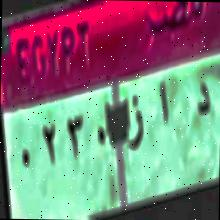0: (21, 144, 30, 174), (96, 124, 107, 148)
2: (40, 122, 58, 170)
3: (63, 112, 86, 170)
alif: (156, 79, 172, 131)
daal: (191, 78, 214, 126)
zay: (126, 92, 146, 160)
